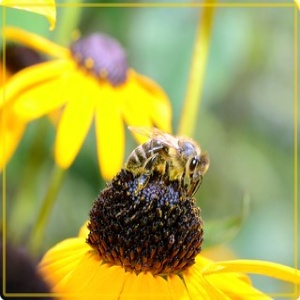bee: (124, 120, 213, 200)
